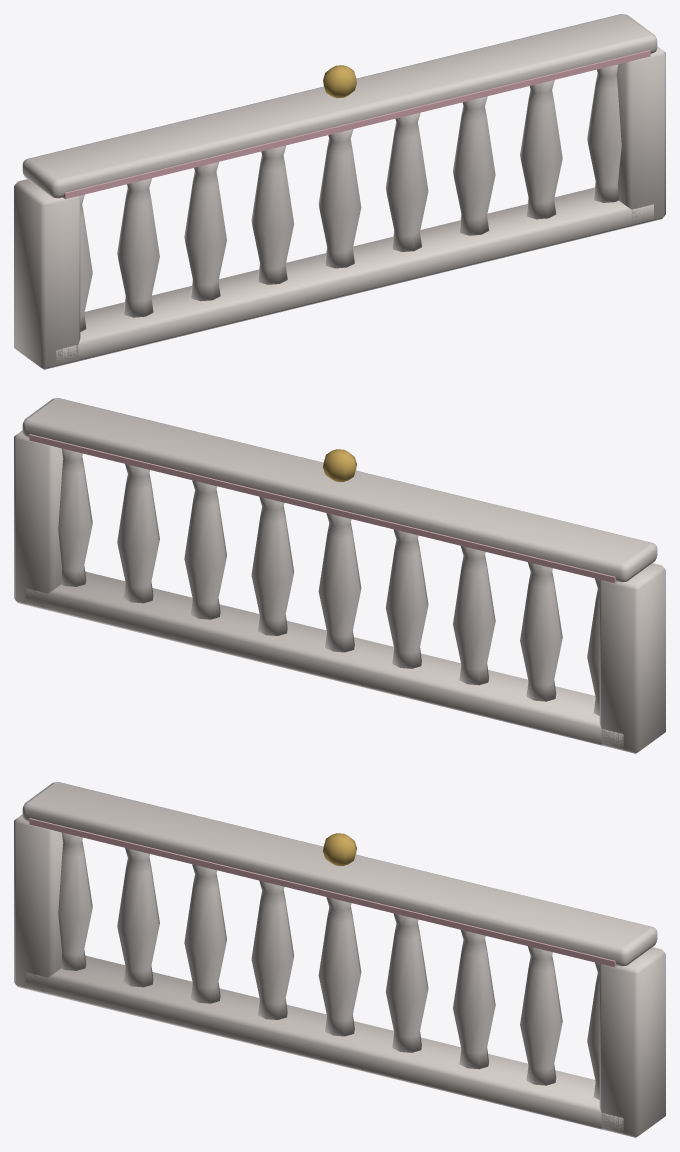
Rendered from balustrade.glb.
3 renders of one model, top to bottom at view 1: azimuth 30°, elevation 25°; view 2: azimuth 150°, elevation 25°; view 3: azimuth 330°, elevation 25°, orthographic.
Visible parts, largest first — view 1: balustrade; view 2: balustrade; view 3: balustrade.
Boxes of the visible parts, x1=… form: balustrade: x1=14, y1=14, x2=665, y2=369; balustrade: x1=14, y1=398, x2=665, y2=753; balustrade: x1=14, y1=782, x2=665, y2=1137.
Size of what is drawn, in the model's own units: 3 by 1 by 0.3.
